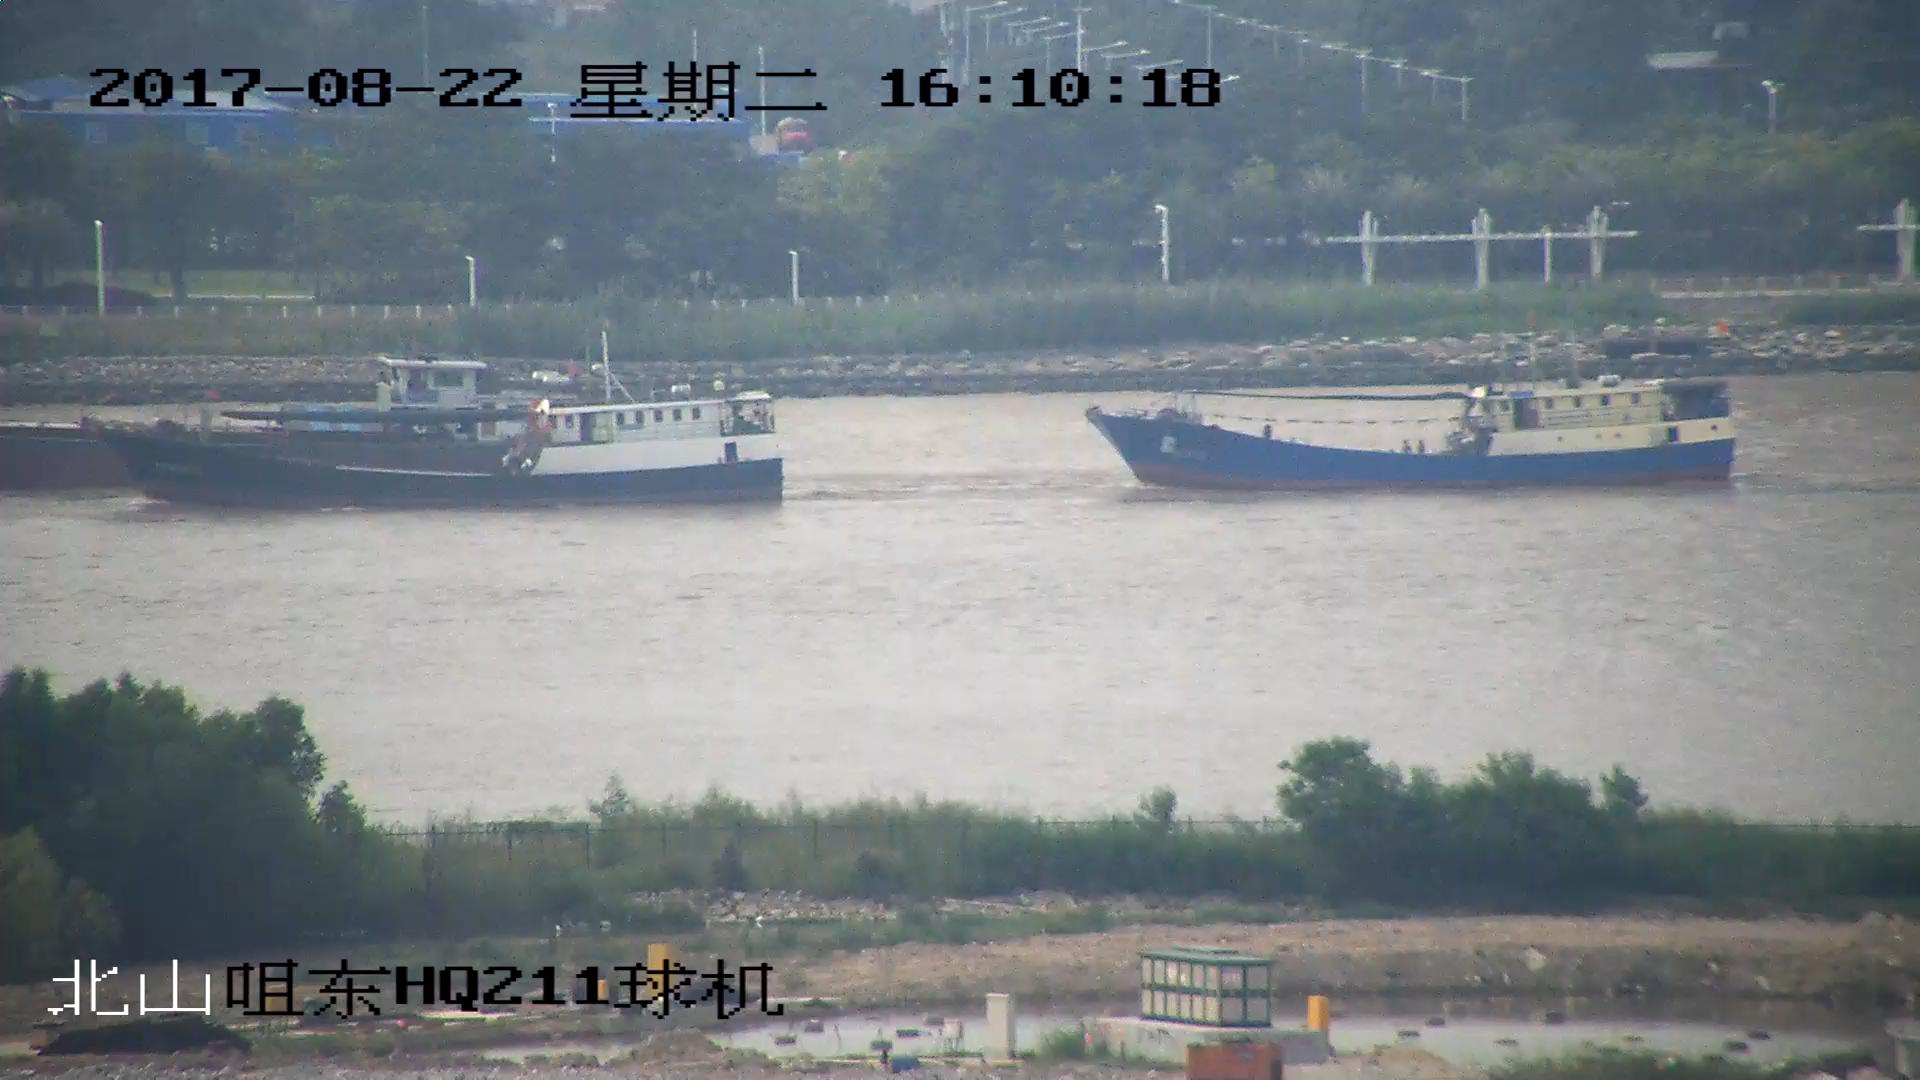bulk cargo carrier: (1, 353, 487, 465)
fishing boat: (102, 369, 780, 505), (1091, 356, 1735, 490)
